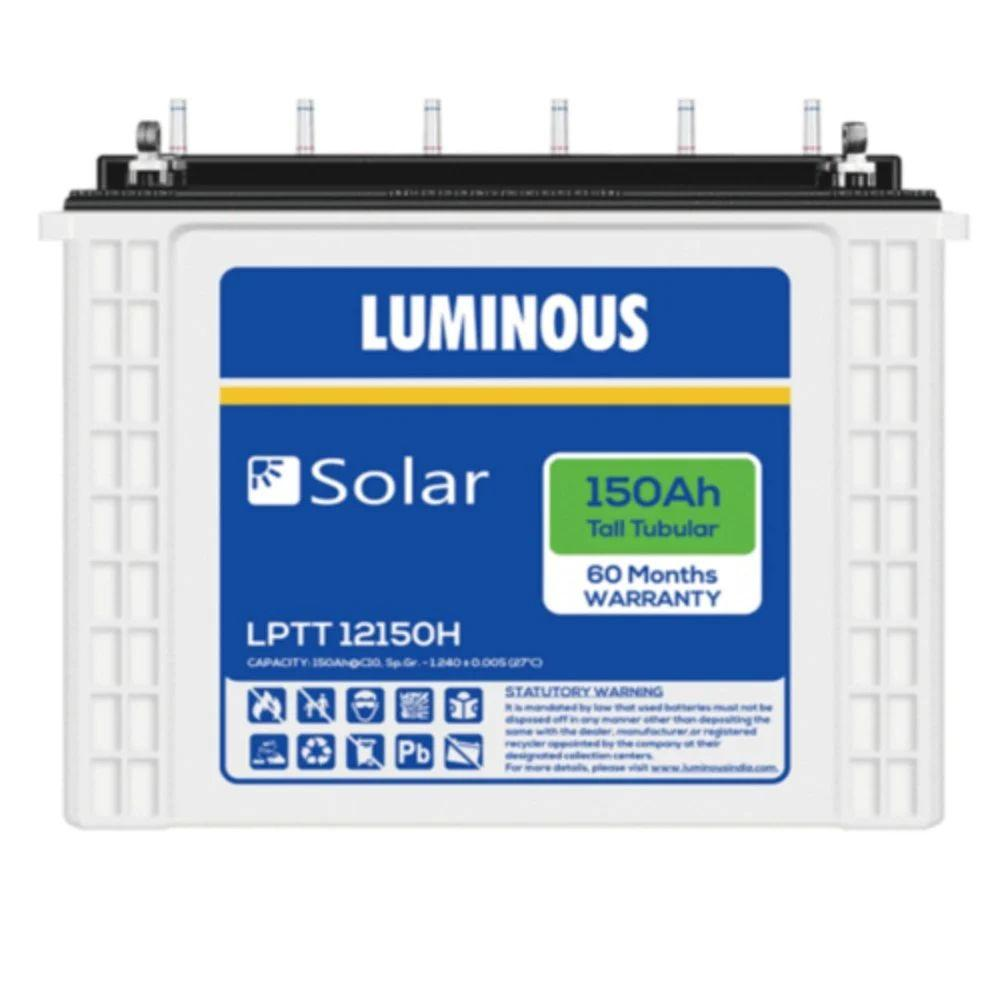battery: (32, 88, 974, 843)
